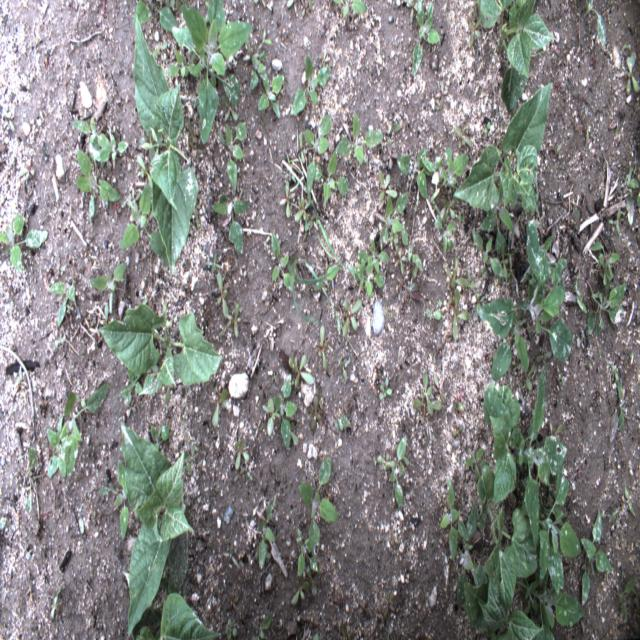crop: (454, 82, 553, 255), (120, 420, 196, 637), (135, 18, 198, 276), (483, 366, 568, 545), (478, 220, 573, 380), (97, 299, 222, 396), (463, 446, 538, 606), (133, 528, 222, 639), (479, 0, 554, 110), (457, 544, 543, 638), (520, 464, 581, 594), (519, 571, 585, 639), (133, 0, 180, 36)
weed: (269, 122, 355, 271), (171, 0, 252, 144), (288, 256, 358, 356), (63, 383, 110, 477), (120, 178, 170, 266), (76, 132, 121, 222), (297, 457, 339, 551), (580, 509, 612, 606), (0, 212, 49, 272), (584, 273, 628, 336), (439, 476, 470, 564), (290, 53, 333, 115), (335, 112, 384, 165), (303, 114, 332, 197), (100, 458, 128, 542), (211, 194, 249, 254), (217, 120, 248, 191), (412, 0, 440, 78), (396, 146, 434, 200), (12, 447, 44, 511), (313, 150, 349, 204), (273, 376, 298, 450), (255, 498, 278, 572), (472, 228, 506, 278), (430, 147, 470, 188), (380, 191, 409, 244), (271, 231, 295, 295), (350, 256, 385, 297), (590, 240, 621, 286), (47, 417, 70, 478), (49, 278, 75, 328), (90, 259, 127, 294), (390, 436, 407, 512), (71, 116, 110, 148), (258, 74, 284, 119), (358, 239, 390, 274), (286, 352, 316, 389), (167, 48, 204, 78), (115, 368, 142, 408), (584, 0, 606, 48), (400, 223, 422, 271), (610, 378, 626, 442), (95, 134, 128, 164), (296, 530, 317, 576), (452, 288, 468, 344), (435, 212, 456, 254), (618, 574, 636, 622), (626, 164, 640, 225), (250, 49, 270, 91), (342, 298, 363, 336), (262, 397, 281, 436), (407, 260, 424, 302), (331, 0, 368, 19), (136, 154, 155, 191), (211, 390, 230, 426), (215, 272, 229, 317), (626, 51, 640, 96), (149, 422, 170, 451), (379, 170, 398, 202), (279, 180, 295, 216), (421, 370, 433, 416), (252, 614, 273, 640), (226, 304, 241, 340), (468, 13, 483, 49), (318, 323, 329, 372), (233, 438, 250, 469), (443, 265, 466, 287), (442, 193, 458, 224), (245, 35, 259, 70), (430, 374, 446, 404), (576, 265, 586, 313), (294, 196, 312, 222), (507, 253, 518, 295), (310, 394, 322, 431), (120, 188, 140, 210), (290, 583, 309, 606), (394, 243, 407, 276), (624, 482, 636, 517), (454, 126, 474, 147), (524, 355, 536, 390), (386, 123, 402, 149), (256, 26, 274, 49), (376, 452, 396, 472), (334, 409, 352, 431), (608, 205, 620, 238), (412, 398, 442, 411), (383, 144, 398, 169), (435, 80, 448, 108), (296, 131, 307, 164), (204, 252, 220, 274), (405, 0, 419, 25), (464, 266, 476, 295), (395, 443, 410, 466), (378, 376, 393, 398), (50, 588, 60, 619), (339, 357, 351, 381), (598, 510, 620, 523), (288, 420, 299, 446), (218, 318, 232, 338), (451, 254, 459, 288), (226, 617, 238, 639), (105, 293, 114, 322), (151, 41, 168, 56), (534, 351, 552, 365), (182, 449, 191, 476), (501, 246, 508, 278), (300, 0, 313, 17), (426, 308, 442, 321), (165, 381, 171, 407), (452, 400, 464, 412), (610, 364, 618, 381), (484, 119, 492, 136), (473, 1, 479, 18), (286, 0, 296, 8), (0, 516, 6, 529), (636, 190, 640, 207), (247, 471, 253, 482), (313, 632, 318, 640), (438, 299, 442, 306)
